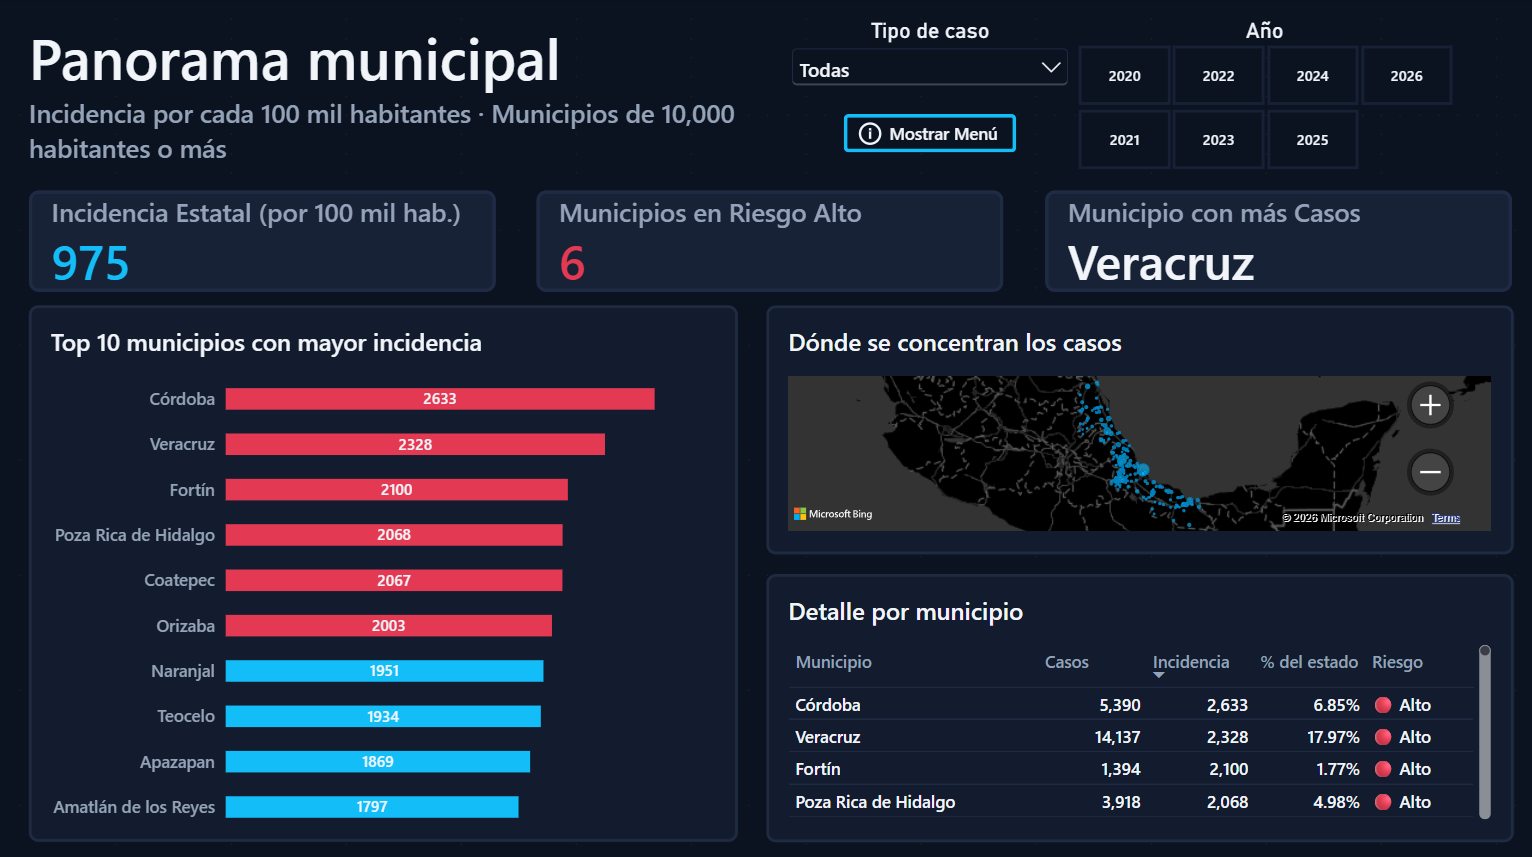

The dashboard page shown, as its layout file describes it:
{"tool":"powerbi","page":{"name":"Panorama Municipal","canvas":[1280,720],"ordinal":2},"visuals":[{"type":"textbox","box":[24,16,610,70],"z":0},{"type":"textbox","box":[24,80,610,78],"z":1000},{"type":"slicer","title":"Año","fields":{"Values":["dim_fecha.Date.Variation.Jerarquía de fechas.Año"]},"box":[880,16,352,128],"z":2000},{"type":"slicer","title":"Tipo de caso","fields":{"Values":["dim_estatus.descripcion"]},"box":[656,16,240,64],"z":3000},{"type":"cardVisual","fields":{"Data":["_Measures.Incidencia Estatal"]},"box":[24,160.1,390,85],"z":4000},{"type":"cardVisual","title":"Mun","fields":{"Data":["_Measures.Municipios en Riesgo Alto"]},"box":[448,160,390,85],"z":5000},{"type":"cardVisual","fields":{"Data":["_Measures.Municipio con Más Casos"]},"box":[872,160,390,85],"z":6000},{"type":"barChart","title":"Top 10 municipios con mayor incidencia","fields":{"Category":["dim_municipio.nombre"],"Y":["_Measures.Incidencia x 100k"]},"box":[24,256,592,448],"z":7000},{"type":"map","title":"Dónde se concentran los casos","fields":{"Category":["dim_municipio.ubicacion"],"Size":["_Measures.Casos"]},"box":[640,256,624,208],"z":8000},{"type":"tableEx","title":"Detalle por municipio","fields":{"Values":["dim_municipio.nombre","_Measures.Casos","_Measures.Incidencia x 100k","_Measures.% del Total Estatal","_Measures.Nivel de Riesgo"]},"box":[640,480,624,224],"z":9000},{"type":"actionButton","title":"Menú","box":[704,96,144,32],"z":9001}]}

Visuals, with their boxes in screenshot pixels (x1, y1, x2, y2), scaled from the page's 1280x720 canvas onto the 1532x857 screenshot:
textbox: [left=29, top=19, right=759, bottom=102]
textbox: [left=29, top=95, right=759, bottom=188]
"Año" slicer: [left=1053, top=19, right=1475, bottom=171]
"Tipo de caso" slicer: [left=785, top=19, right=1072, bottom=95]
cardVisual - _Measures.Incidencia Estatal: [left=29, top=191, right=496, bottom=292]
"Mun" cardVisual: [left=536, top=190, right=1003, bottom=292]
cardVisual - _Measures.Municipio con Más Casos: [left=1044, top=190, right=1510, bottom=292]
"Top 10 municipios con mayor incidencia" barChart: [left=29, top=305, right=737, bottom=838]
"Dónde se concentran los casos" map: [left=766, top=305, right=1513, bottom=552]
"Detalle por municipio" tableEx: [left=766, top=571, right=1513, bottom=838]
"Menú" actionButton: [left=843, top=114, right=1015, bottom=152]
